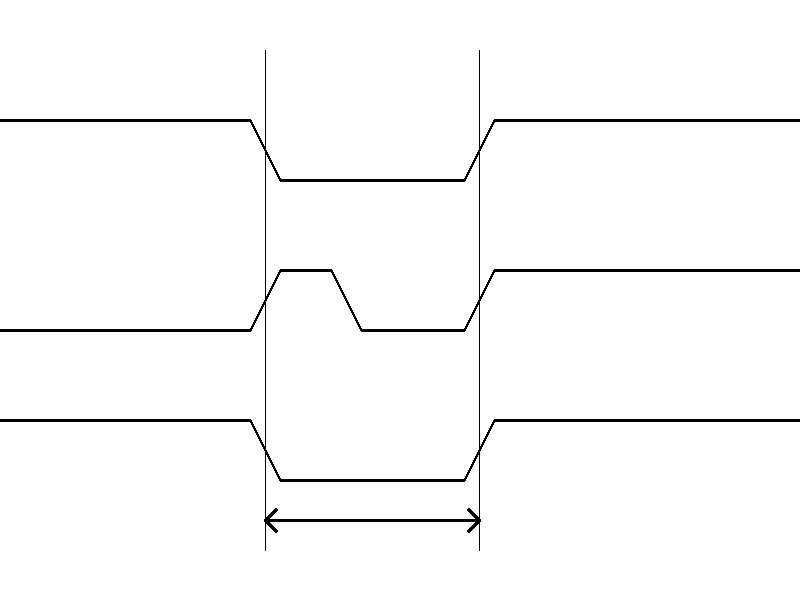double_arrow: (265, 505, 479, 535)
